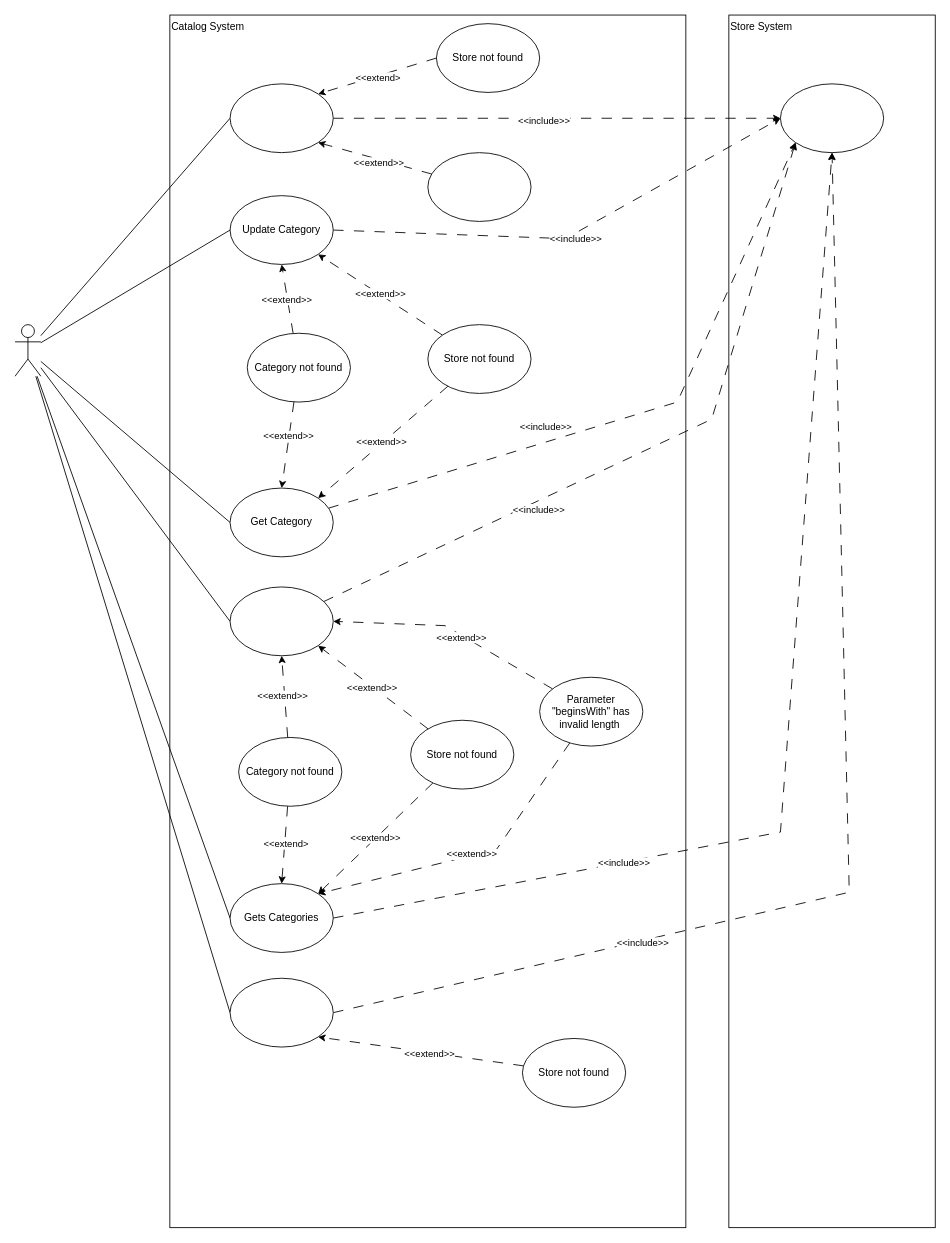
Image size: 950x1243. Some labels were removed from this diagram. Here are the shapes that lost their labels. From the top down, the centre of each, then its label:
At (281,118): "Create Category".
At (832,118): "Store exists".
At (479,186): "Category already exists".
At (27,350): "Store".
At (281,621): "Count Categories".
At (281,1012): "Delete Category".
